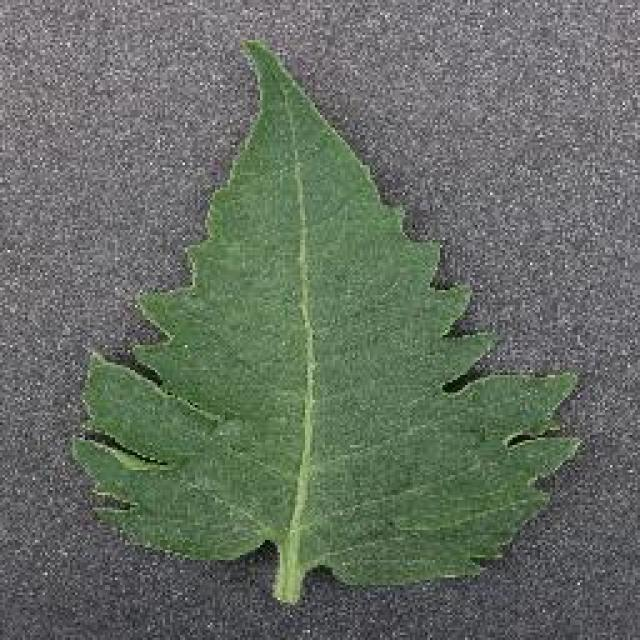Tomato healthy leaf: (86, 31, 569, 591)
